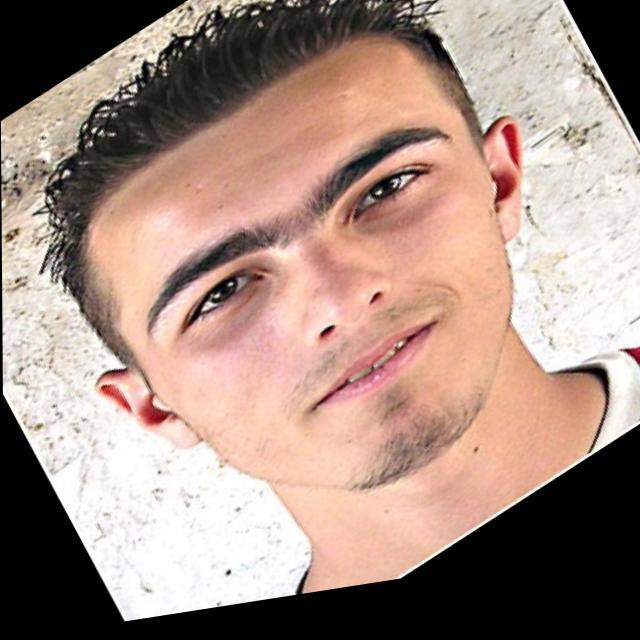Nonhelmet: (34, 0, 533, 495)
